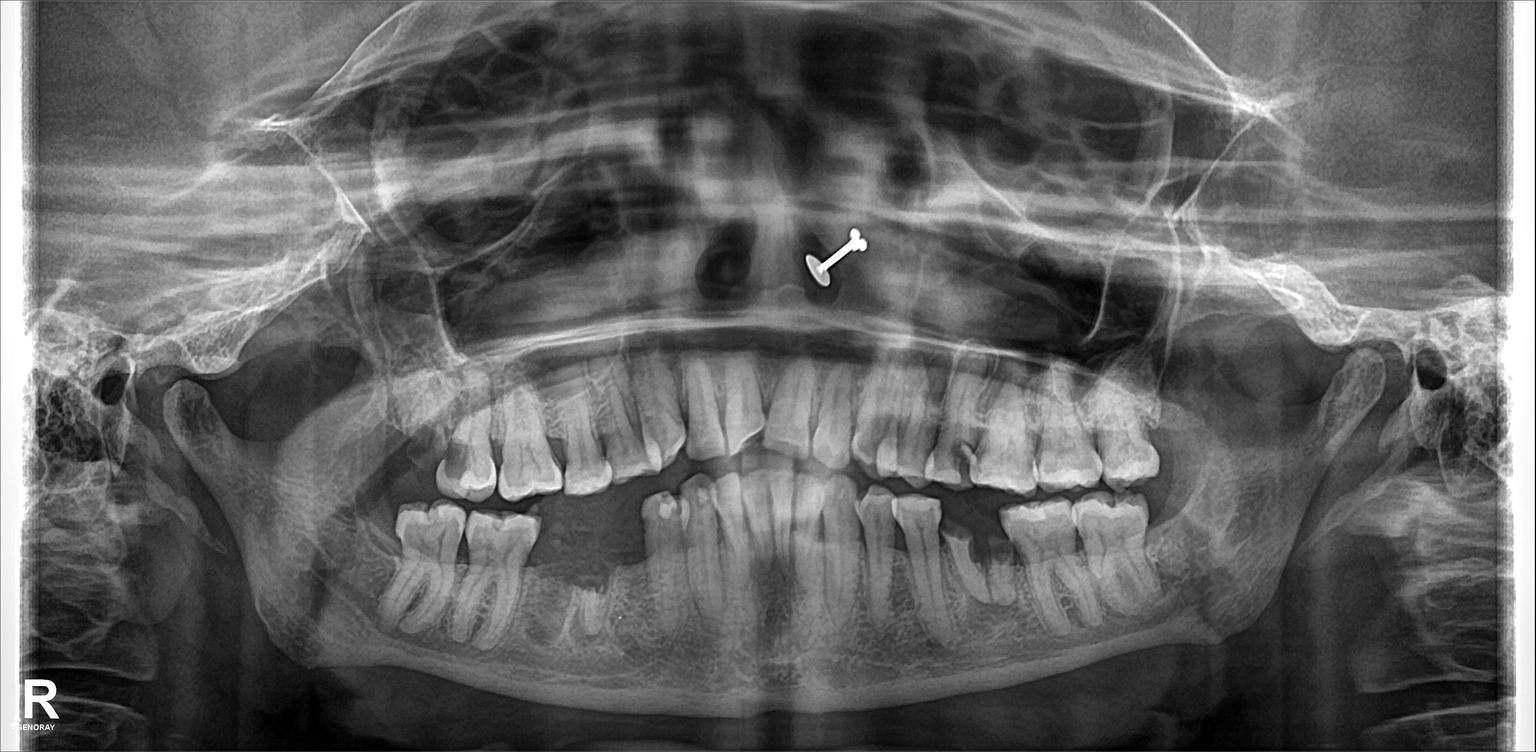Dental Caries: (412, 421, 445, 463), (950, 441, 980, 480), (443, 441, 466, 480)
Missing Tooth: (603, 504, 647, 626), (531, 527, 575, 633), (352, 510, 398, 596), (380, 400, 405, 487)
Retained Root: (942, 510, 982, 620), (574, 542, 618, 640), (983, 512, 1019, 614)
